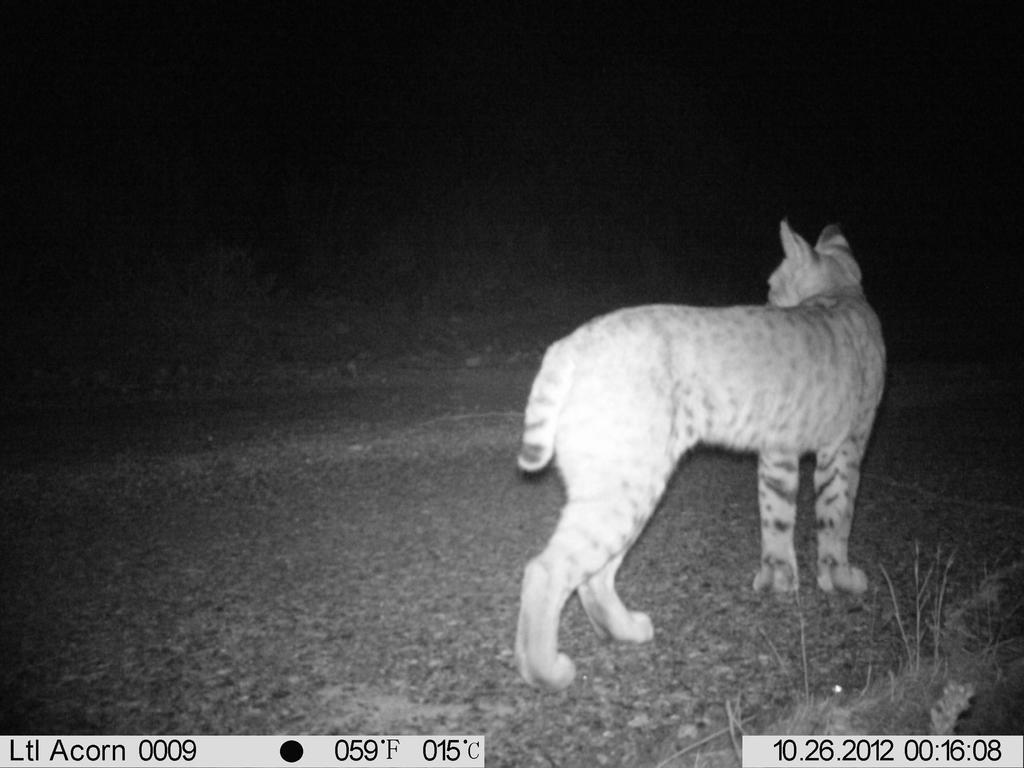bobcat: (502, 210, 890, 709)
